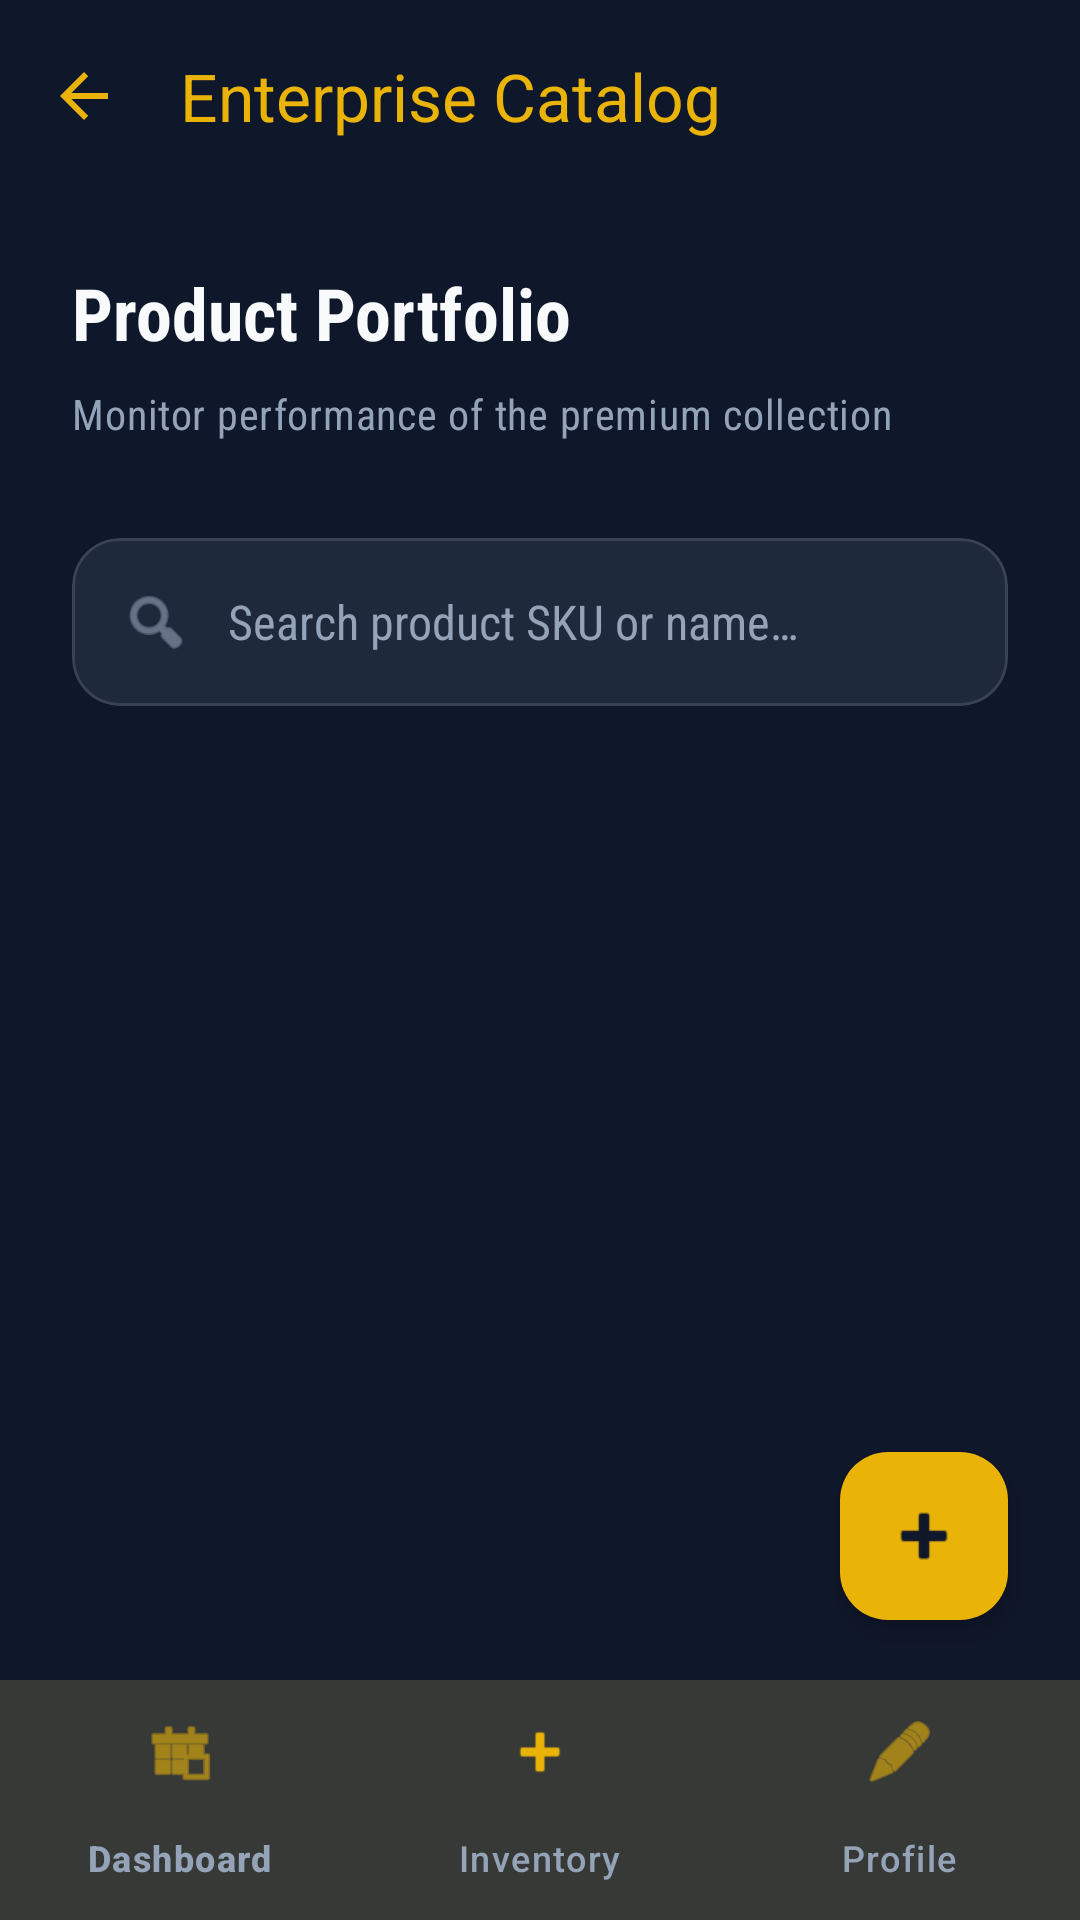

Locate icon controls on the screen. Image size 1080×1920, boxes as region(x1, y1, x2, y2).
Add New Product: region(840, 1452, 1008, 1620)
